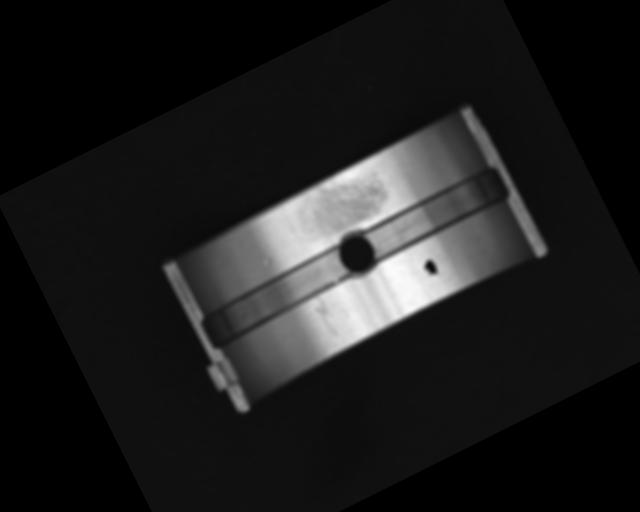blot: (419, 256, 443, 283)
bruise: (261, 255, 275, 268)
gap: (197, 241, 358, 351), (358, 163, 512, 265)
hole: (330, 225, 383, 283)
nick: (309, 293, 343, 342)
scratch: (285, 159, 396, 248)
